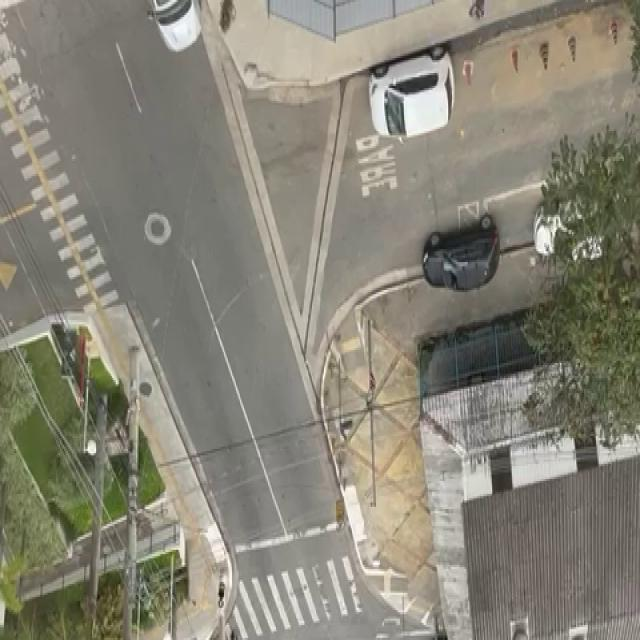car: (360, 36, 468, 146), (414, 206, 508, 300), (530, 194, 640, 273), (144, 0, 210, 62)
